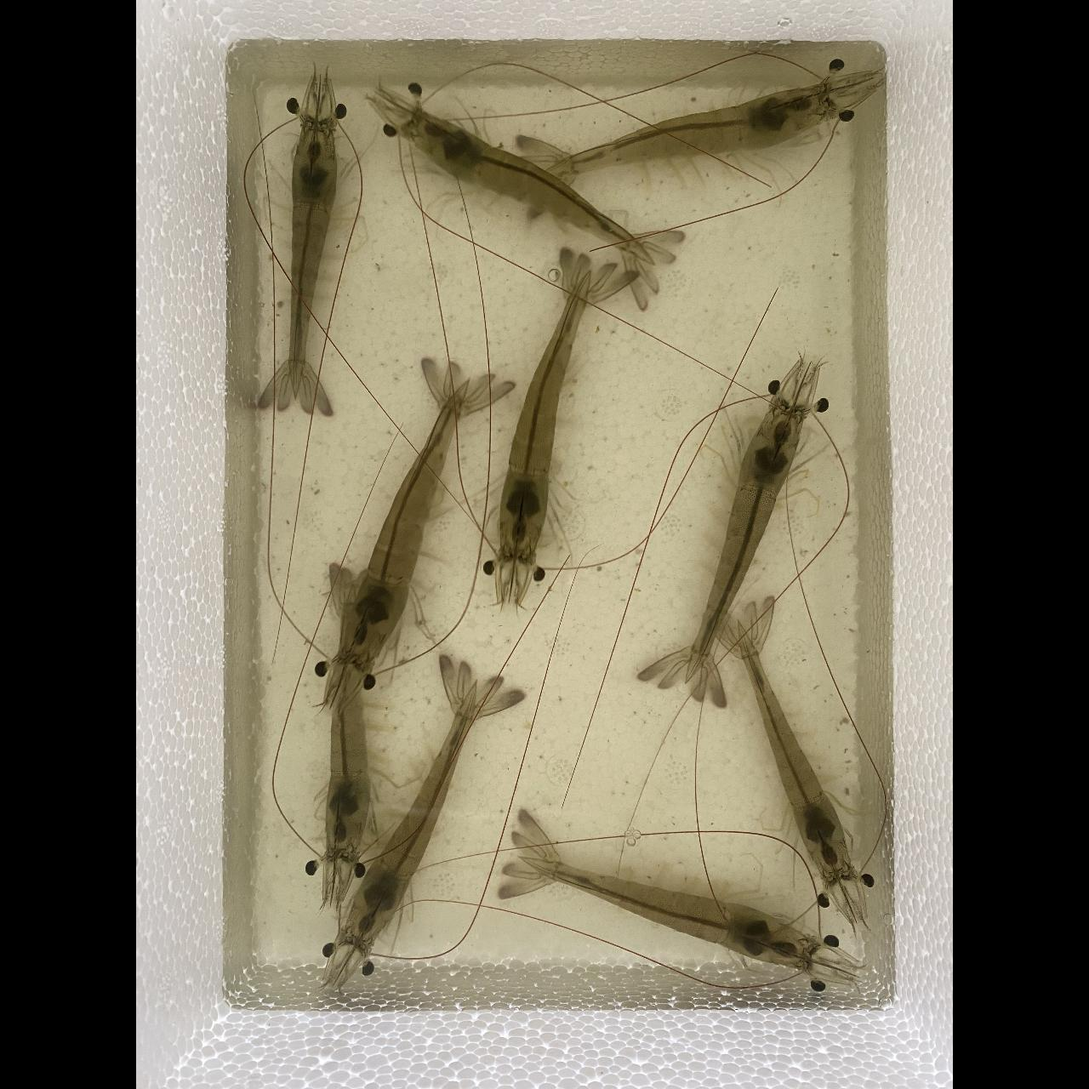top_shrimp: (410, 116, 659, 260), (347, 694, 476, 944), (342, 388, 463, 654), (527, 856, 808, 965), (689, 410, 800, 679), (740, 633, 851, 878), (499, 272, 590, 555), (546, 88, 829, 174), (289, 121, 337, 396), (325, 575, 369, 851)
